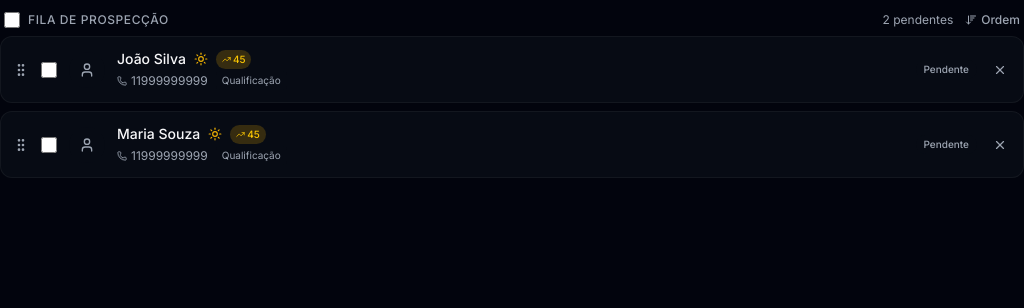
Test: QueueItem Expand (CP-4.4) › AC4 — expandir segundo item colapsa o primeiro (accordion)
Click first item — expand
Step 1. Click the button with aria-label "João Silva — clique para expandir" → (87, 70), box [1, 37, 1023, 102]
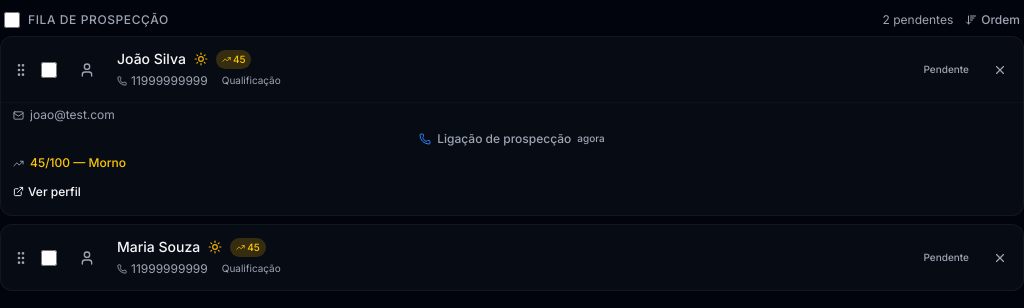
Expected: the number of buttons "Ver perfil" is 1, [13, 184, 81, 200]
Click second item — first collapses, second expands (accordion)
Step 2. Click the button with aria-label "Maria Souza — clique para expandir" → (87, 258), box [1, 225, 1023, 290]
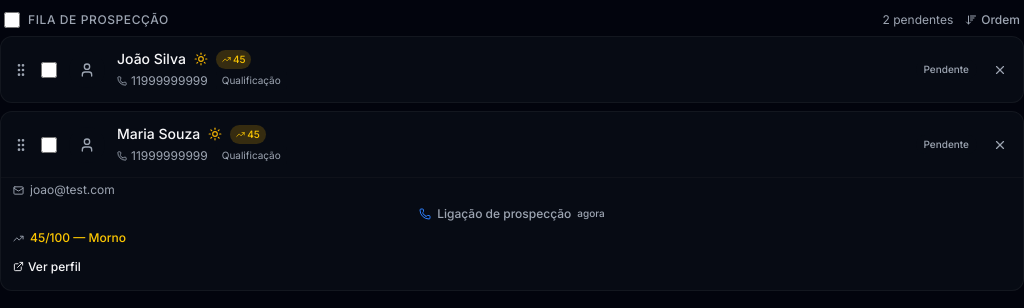
Expected: the number of buttons "Ver perfil" is 1, [13, 258, 81, 274]
Expected: the button with aria-label "Maria Souza — clique para recolher" is expanded, [1, 112, 1023, 177]
